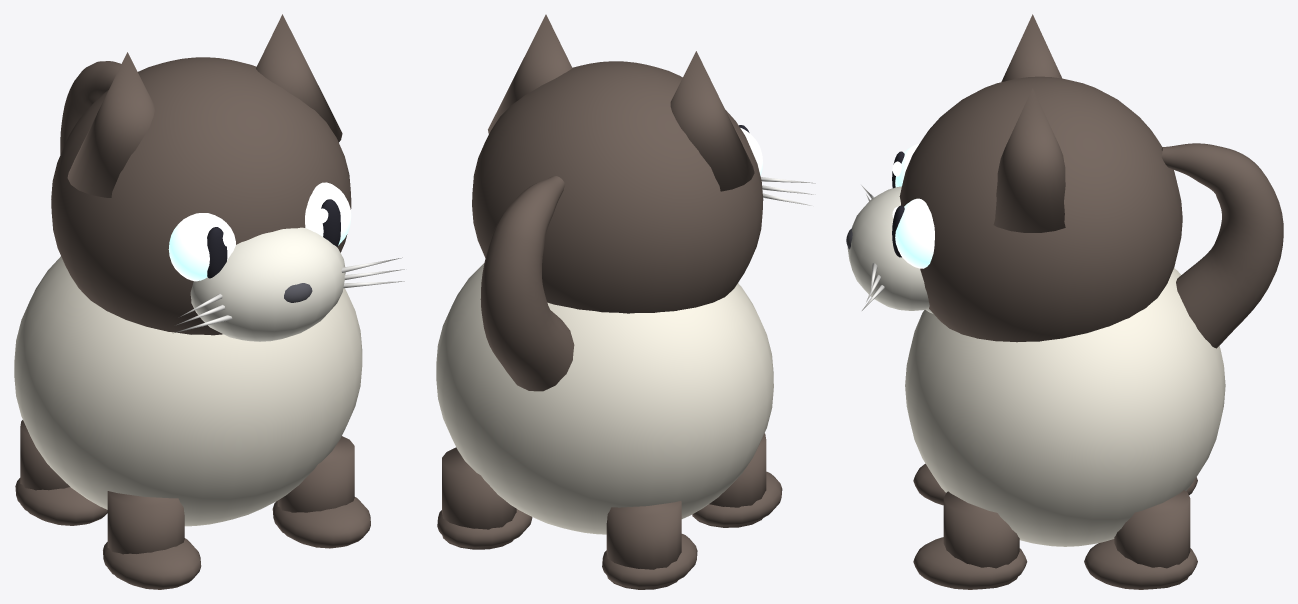
Rendered from siamese_conductor.glb.
3 views of the same model, side by side, from view 1: azimuth 30°, elevation 25°; view 2: azimuth 150°, elevation 25°; view 3: azimuth 270°, elevation 25° (orthographic). The views are drawn at different scales.
Parts seen in each view (by area): view 1: siamese_conductor; view 2: siamese_conductor; view 3: siamese_conductor.
Boxes of the visible parts, left/top/right/bottom form: siamese_conductor: left=14, top=14, right=404, bottom=589; siamese_conductor: left=436, top=14, right=815, bottom=589; siamese_conductor: left=846, top=14, right=1283, bottom=589.
Bounding box in the file's own units: 1.32 × 2.05 × 1.66.
